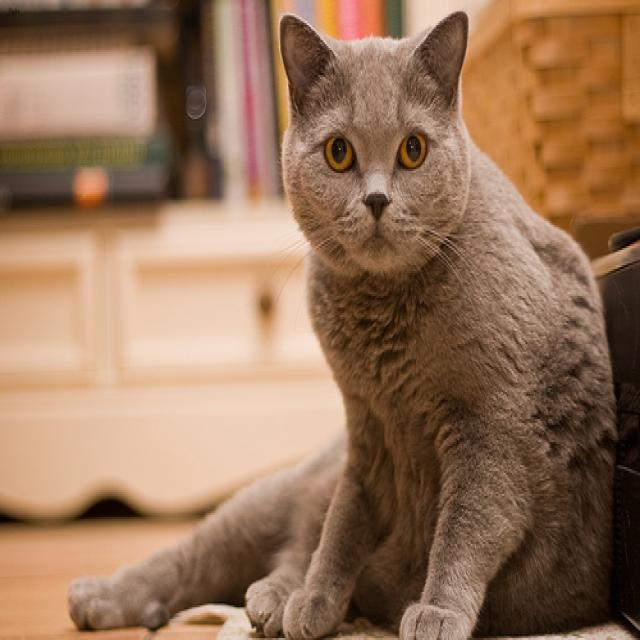British_Shorthair: (274, 10, 496, 282)
